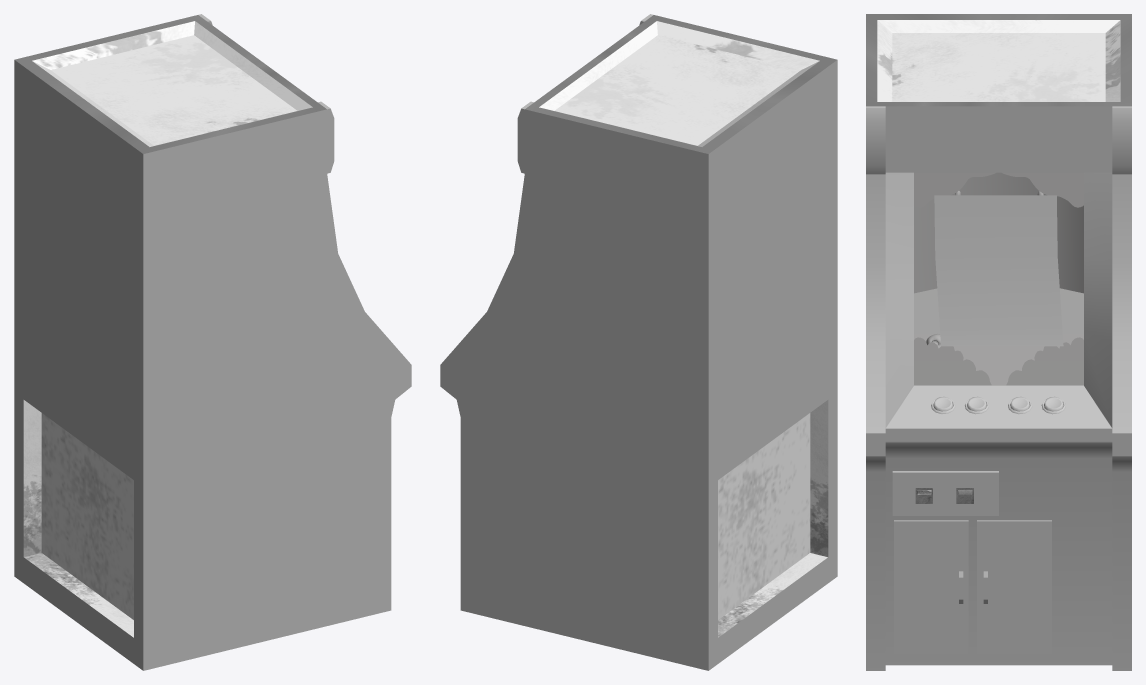
File: Arcade SCB.fbx
3 renders of one model, left to right at view 1: azimuth 30°, elevation 25°; view 2: azimuth 150°, elevation 25°; view 3: azimuth 270°, elevation 25°, orthographic. The views are drawn at different scales.
Parts seen in each view (by area): view 1: Cube.041; view 2: Cube.041; view 3: Cube.041, Cube.033.
Boxes of the visible parts, bbox=[...] form: Cube.041: bbox=[14, 14, 411, 670]; Cube.041: bbox=[440, 14, 837, 670]; Cube.041: bbox=[866, 14, 1131, 670]; Cube.033: bbox=[914, 172, 1083, 385].
Bounding box in the file's own units: 86.88 × 160 × 72.39.
